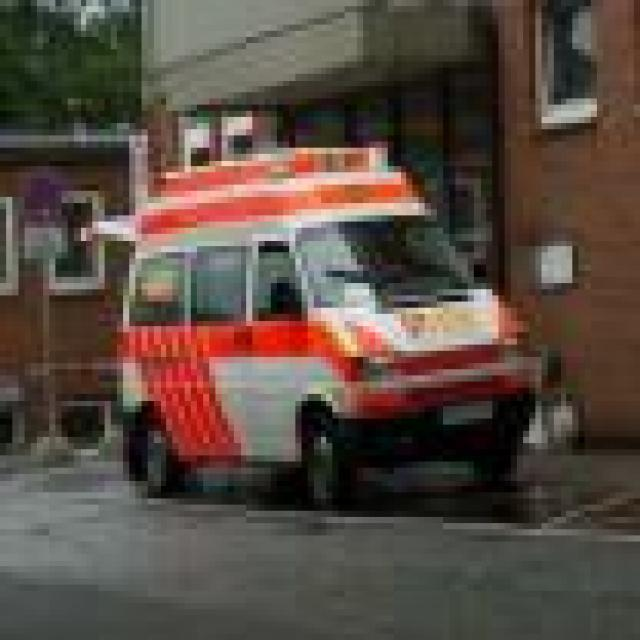emergency-vehicle: (102, 138, 550, 508)
